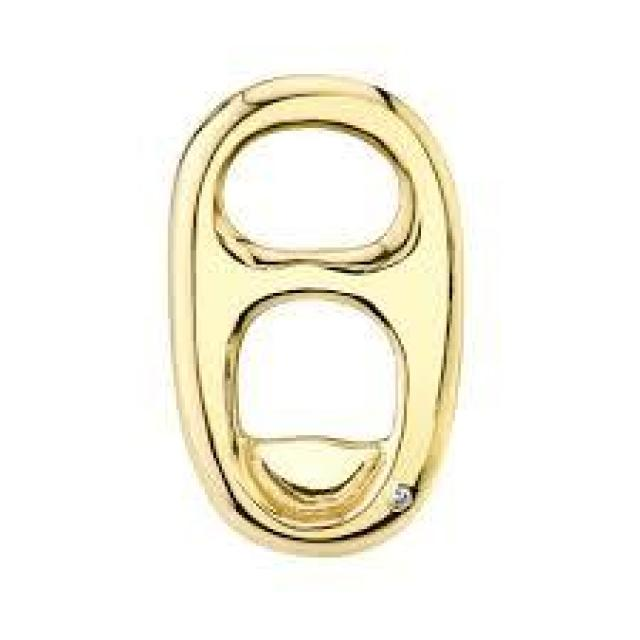pop tab: (170, 77, 462, 549)
